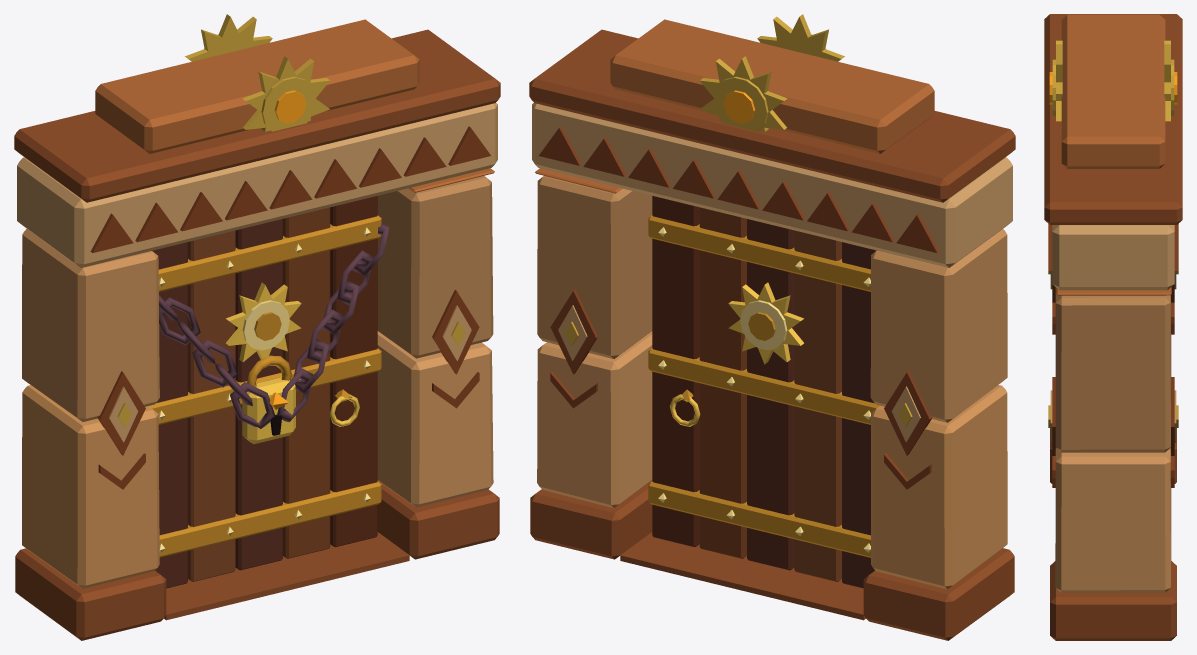
Rendered from door_locked.fbx.
3 views of the same model, side by side, from view 1: azimuth 30°, elevation 25°; view 2: azimuth 150°, elevation 25°; view 3: azimuth 270°, elevation 25° (orthographic). The views are drawn at different scales.
Visible parts, largest first — view 1: door_locked, Door, Lock; view 2: door_locked, Door; view 3: door_locked.
Part boxes in pixels (<box>): door_locked: <box>14,14,500,640</box>; Door: <box>149,196,381,588</box>; Lock: <box>159,223,389,444</box>; door_locked: <box>529,14,1015,640</box>; Door: <box>648,196,879,588</box>; door_locked: <box>1044,14,1182,640</box>.
Size of the model in its own units: 4 by 4.8 by 1.2.
